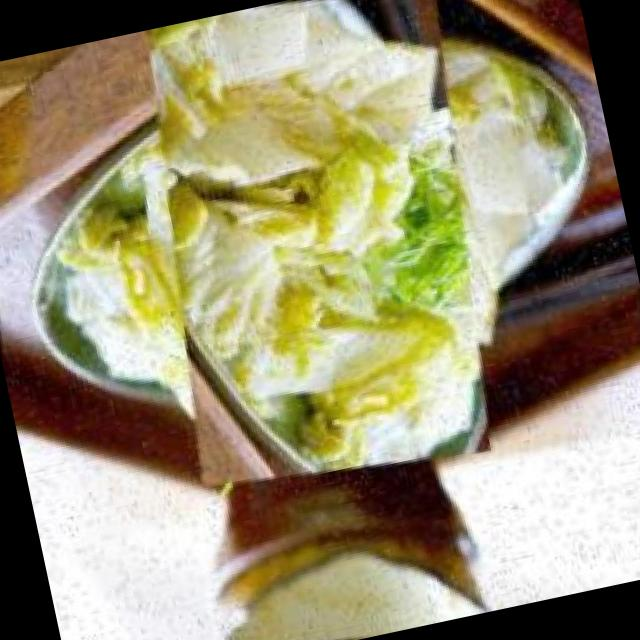chinese_cabbage: (65, 0, 569, 475)
